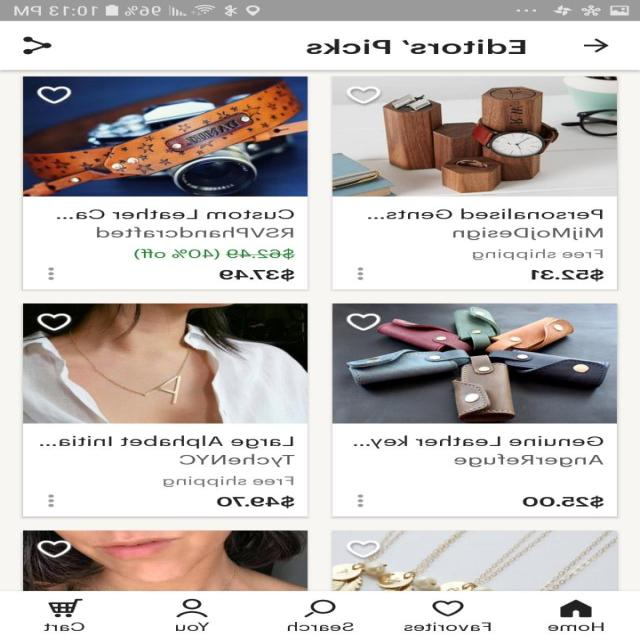Icon: (48, 598, 84, 617), (37, 86, 73, 104), (348, 86, 382, 104), (177, 598, 209, 617), (346, 313, 381, 330), (37, 313, 72, 330), (37, 540, 72, 557), (346, 540, 381, 557), (304, 599, 337, 617), (560, 599, 592, 617), (432, 599, 465, 616), (23, 36, 52, 54), (584, 38, 609, 52), (48, 267, 55, 280), (358, 267, 364, 280), (358, 494, 364, 507), (49, 494, 55, 506)
Image: (332, 303, 617, 424), (24, 303, 308, 424), (23, 76, 308, 196), (332, 76, 616, 196), (331, 530, 617, 590), (24, 530, 308, 590)
Text: (40, 434, 294, 448), (352, 434, 604, 448), (306, 38, 526, 54), (57, 208, 295, 220), (368, 208, 604, 219), (454, 453, 604, 467), (96, 227, 294, 237), (454, 227, 604, 240), (134, 248, 296, 260), (472, 248, 604, 260), (180, 454, 296, 467), (163, 476, 294, 486), (522, 495, 604, 508), (220, 268, 296, 282), (217, 495, 295, 508), (532, 268, 604, 281), (404, 622, 491, 631), (288, 621, 355, 631), (548, 622, 604, 630), (44, 621, 86, 631), (176, 622, 211, 630)
